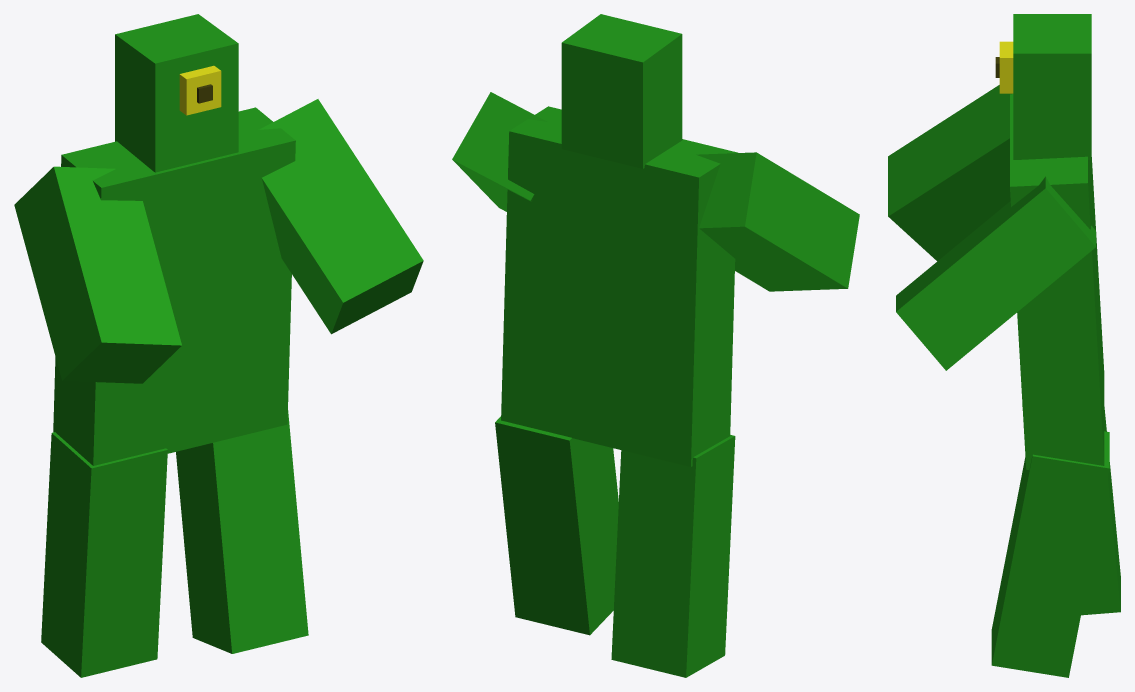
Rendered from AlianHuman.fbx.
3 views of the same model, side by side, from view 1: azimuth 30°, elevation 25°; view 2: azimuth 150°, elevation 25°; view 3: azimuth 270°, elevation 25° (orthographic). The views are drawn at different scales.
Visible parts, largest first — view 1: Cube.001, Cube.007; view 2: Cube.001; view 3: Cube.001, Cube.007.
Boxes of the visible parts, box(x1,y1,x2,y2) form: Cube.001: box(14, 14, 423, 677); Cube.007: box(179, 65, 221, 115); Cube.001: box(452, 14, 859, 677); Cube.001: box(888, 14, 1120, 677); Cube.007: box(999, 41, 1013, 93).
Bounding box in the file's own units: 102 × 168 × 59.48.
